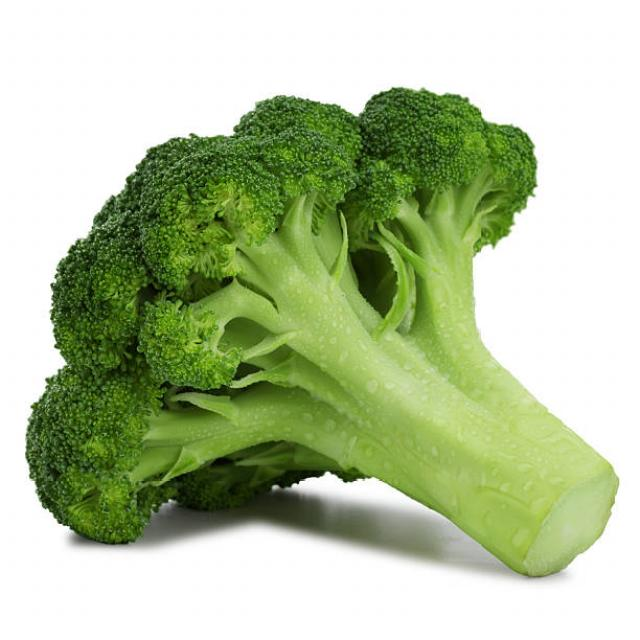Broccoli head: (23, 52, 640, 640)
